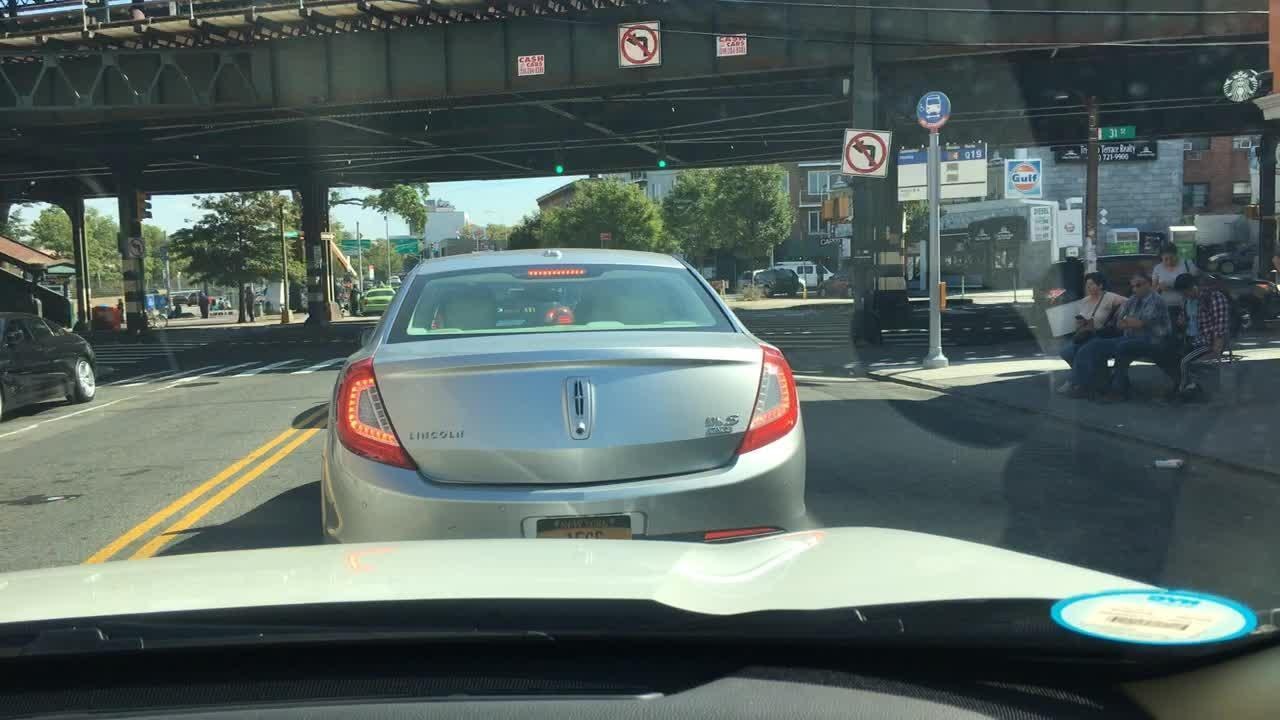lincoln: (556, 367, 607, 449)
